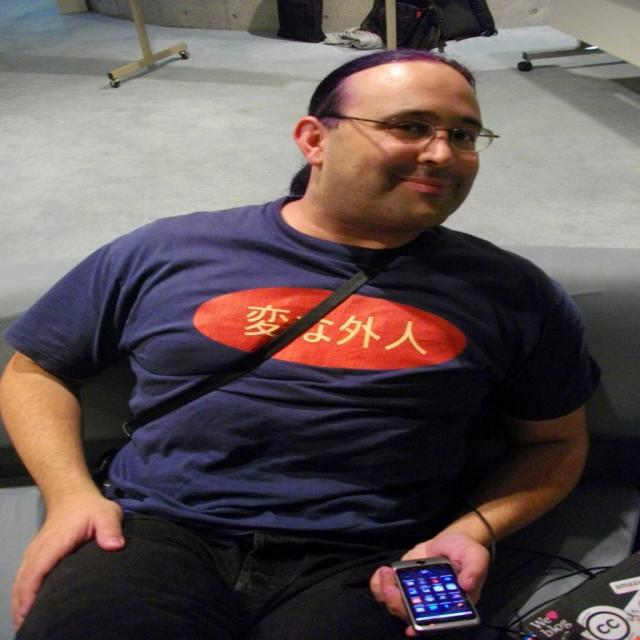Glasses: (310, 109, 509, 156)
